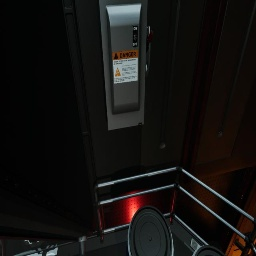SafetySwitchPanel ,: (99, 0, 152, 130)
